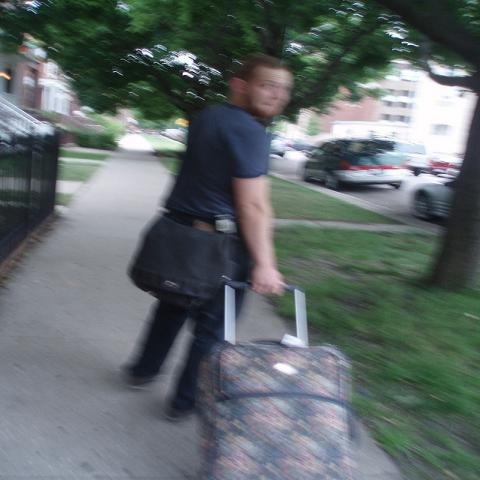car: (300, 139, 408, 190), (376, 134, 465, 178), (407, 176, 458, 224), (268, 139, 315, 157)
